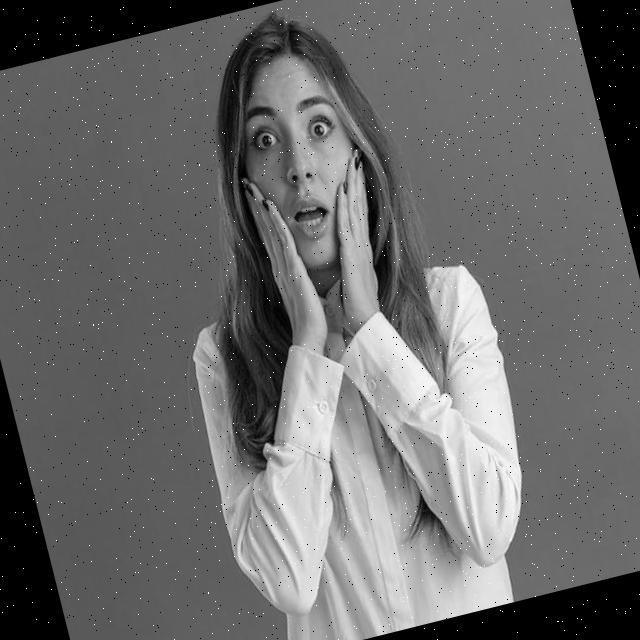Fear: (222, 45, 376, 277)
